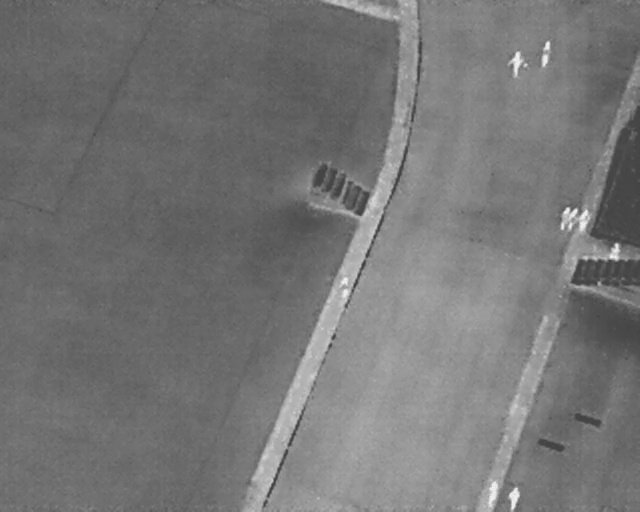Person: (506, 47, 528, 79), (576, 205, 593, 238), (538, 37, 554, 69), (507, 482, 522, 511), (557, 204, 572, 233), (486, 478, 500, 508), (567, 205, 580, 234), (608, 241, 622, 265), (339, 276, 351, 300)
